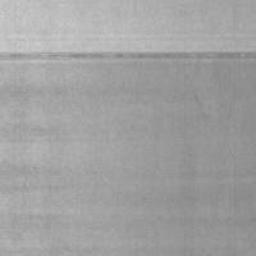Welding line: (0, 50, 256, 61)
